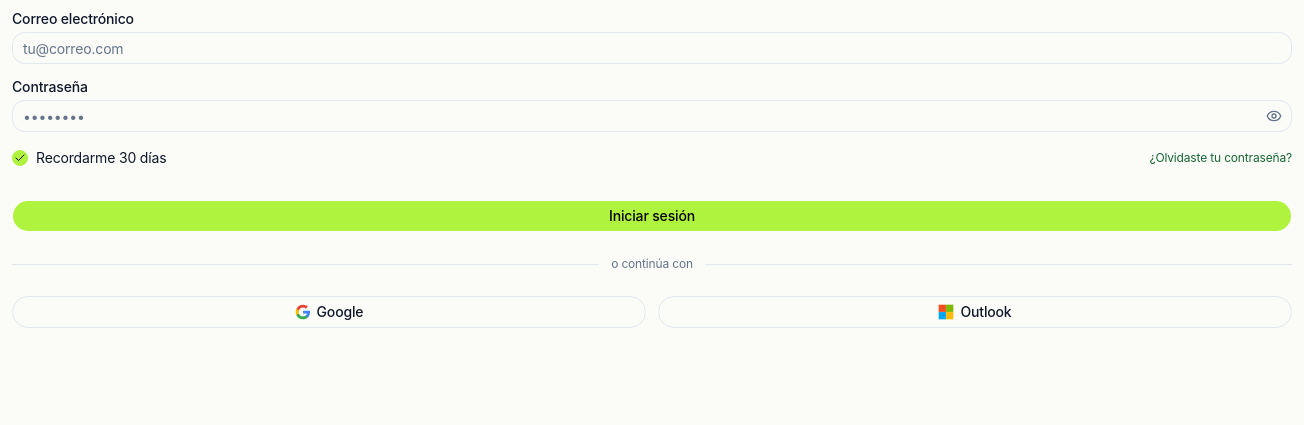
Test case: auth password error handling › resets a rejected password attempt before switching to Google
The image size is (1304, 425).
In the field labelled "Correo electrónico": (652, 48) 12,32 -> 1292,64, type "ana@example.com"
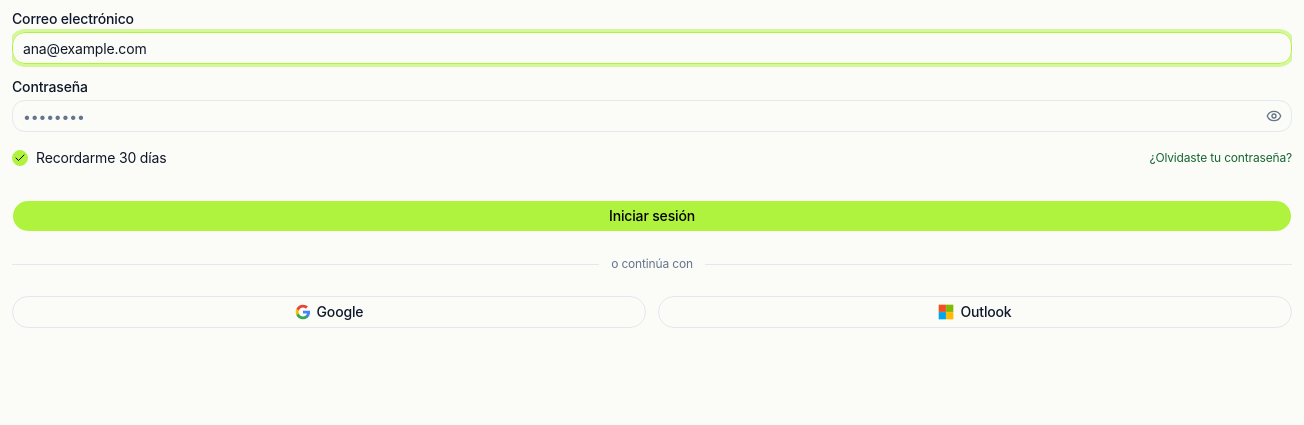
In the password field labelled "Contraseña": (652, 116) 12,100 -> 1292,132, type "secreto"
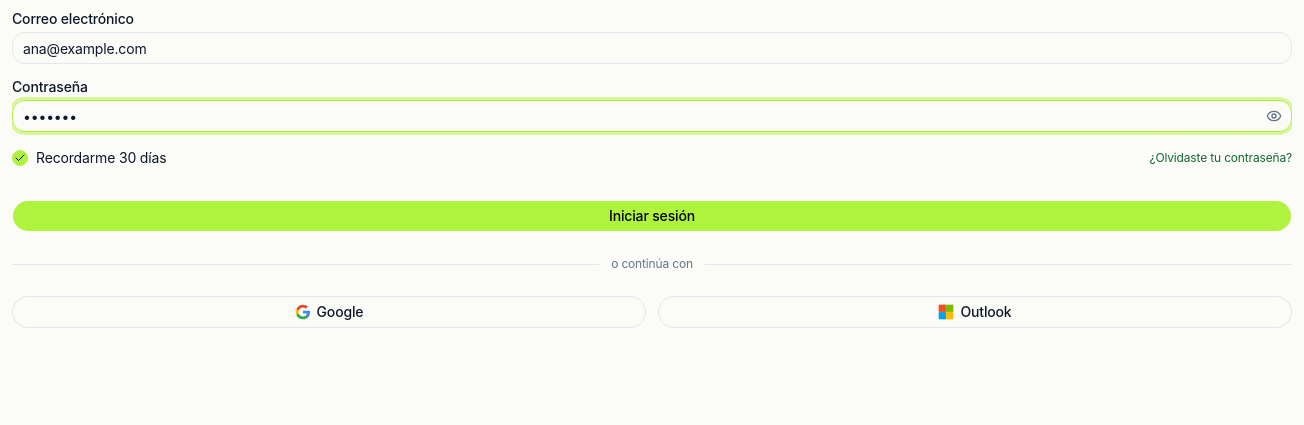
Click the button "Iniciar sesión": (652, 216) 12,200 -> 1292,232
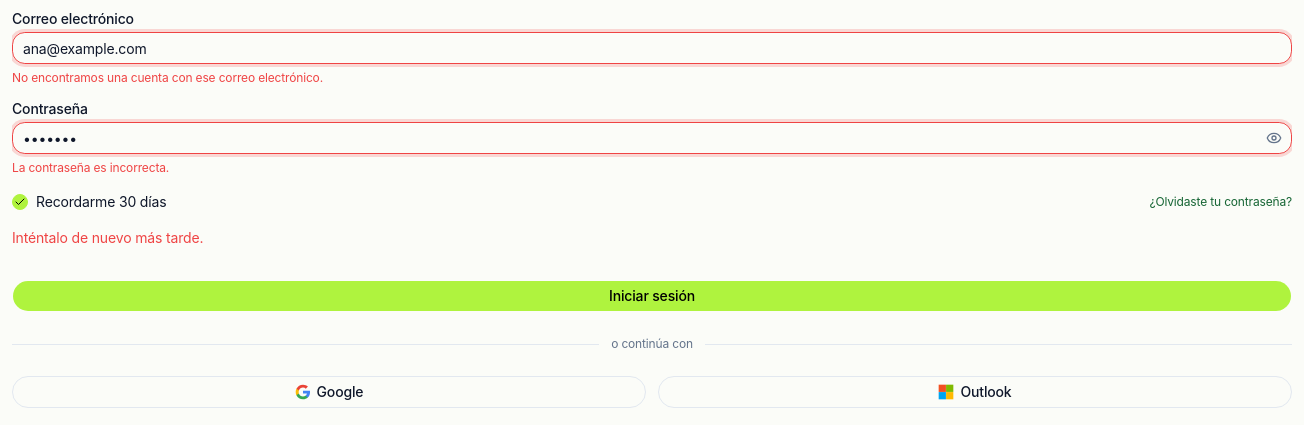
Expected: the text "No encontramos una cuenta con ese correo electrónico." is shown, 12,70 -> 323,85
Click the button "Google": (329, 392) 12,376 -> 646,408
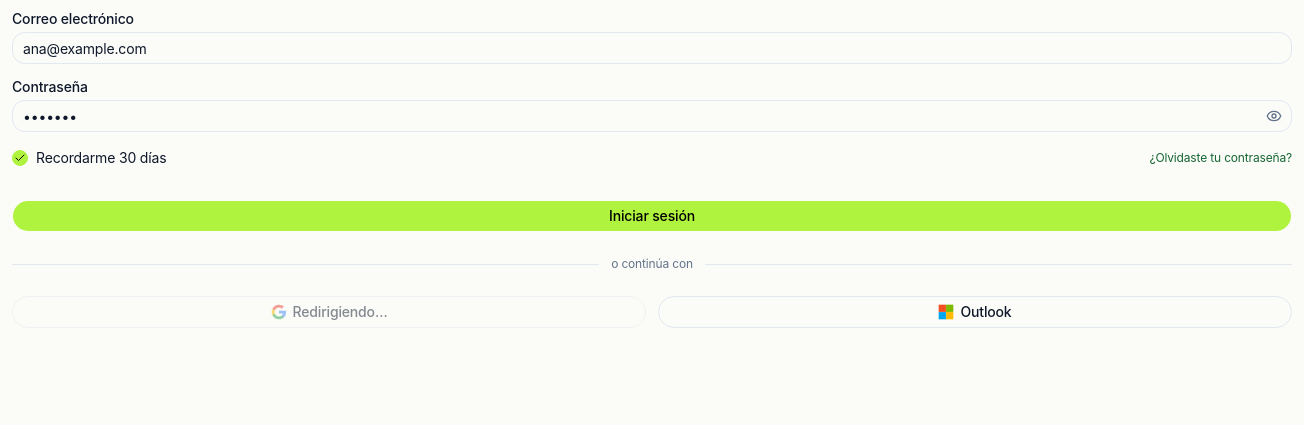
Expected: the text "No encontramos una cuenta con ese correo electrónico." is gone
